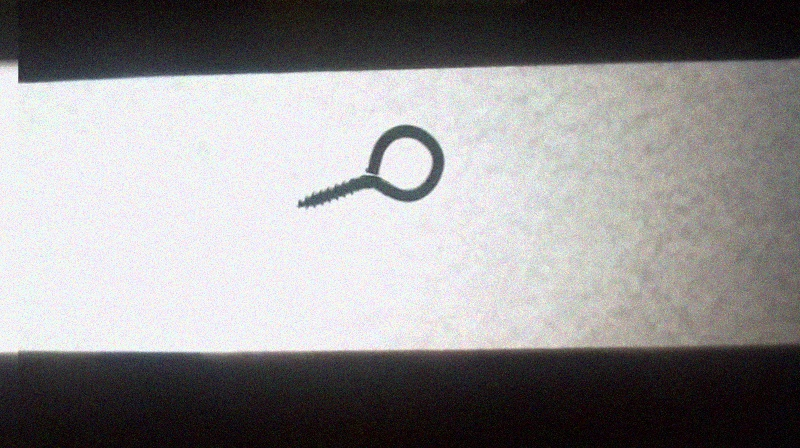O001: (293, 120, 450, 213)
